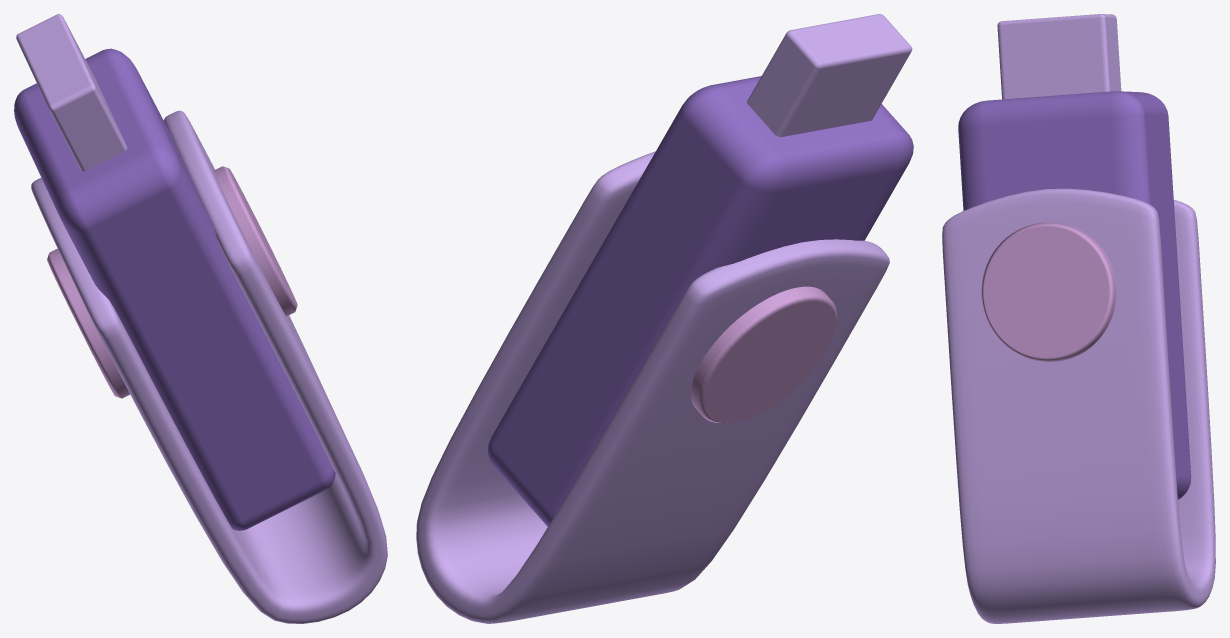
The model's file is Flashdrive.gltf.
The picture shows the model from 3 angles, left to right: view 1: azimuth 30°, elevation 25°; view 2: azimuth 150°, elevation 25°; view 3: azimuth 270°, elevation 25°; orthographic projection. The views are drawn at different scales.
Parts seen in each view (by area): view 1: Cube, Cube 2, Cube 3, Ellipse, Ellipse 2; view 2: Cube 2, Cube, Cube 3, Ellipse 2; view 3: Cube 2, Cube, Ellipse, Cube 3.
Part boxes in pixels (x1,y1,x2,y2): Cube: (14,48,335,530); Cube 2: (31,110,387,623); Cube 3: (16,14,127,171); Ellipse: (214,166,297,316); Ellipse 2: (47,248,129,398); Cube 2: (416,151,889,623); Cube: (487,76,913,526); Cube 3: (747,14,912,136); Ellipse 2: (691,286,836,422); Cube 2: (942,188,1215,623); Cube: (958,91,1191,499); Ellipse: (981,222,1116,361); Cube 3: (997,14,1121,99).
Size of the model in its own units: 0.832 by 1.32 by 0.6285.
